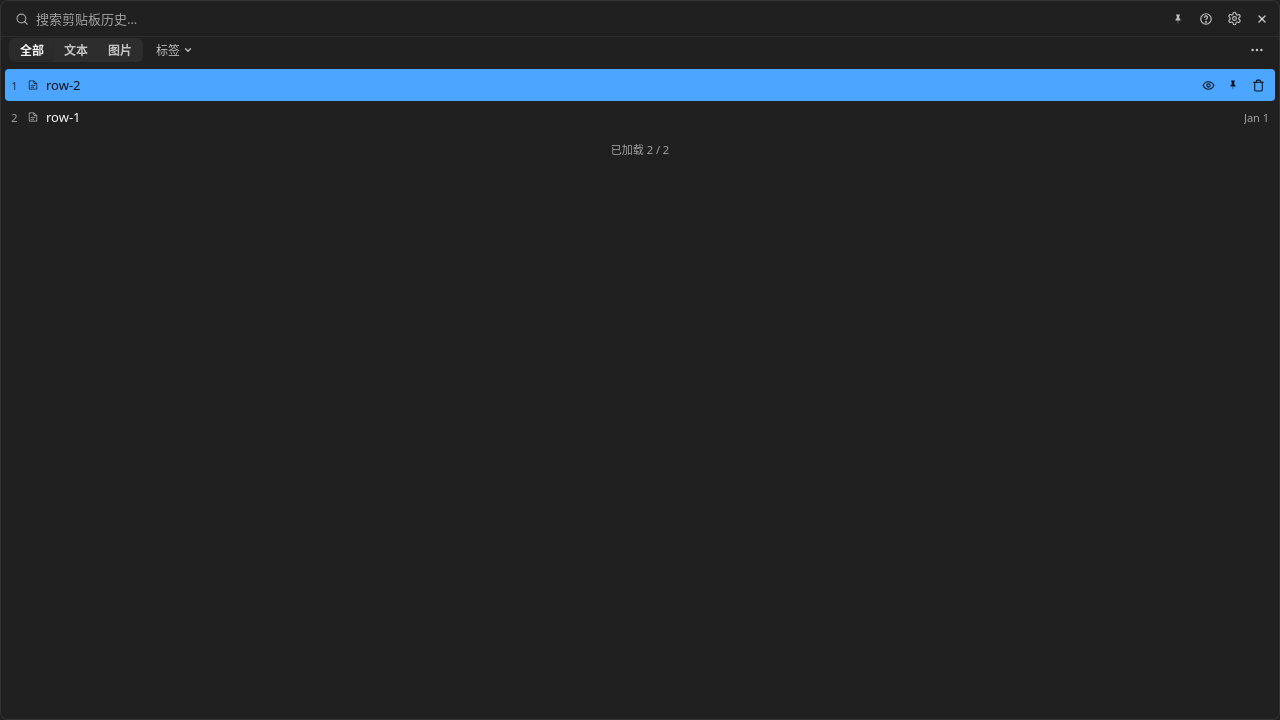
Test: live history list › scrolls selected row into view only for keyboard navigation, not mouse hover
Later steps or results of the test are not shown.
Hover over the option "2 row-1 Jan 1": (63, 117) x1=11 y1=108 x2=1269 y2=126
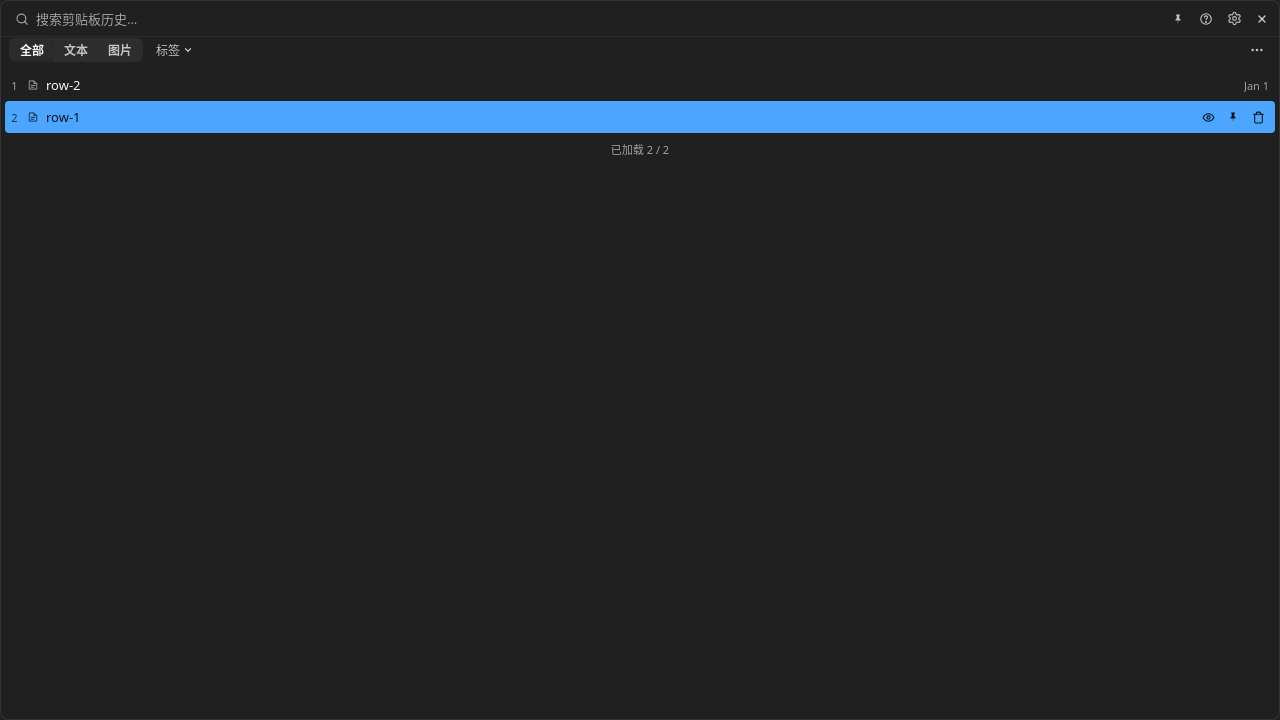
Now the option "2 row-1 Jan 1" is selected, box x1=5 y1=101 x2=1275 y2=133
